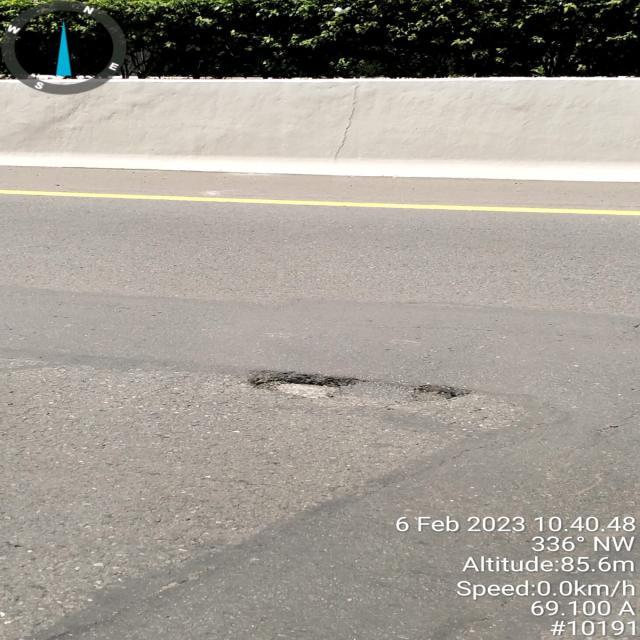Buraco: (234, 368, 371, 402), (402, 381, 478, 405)
